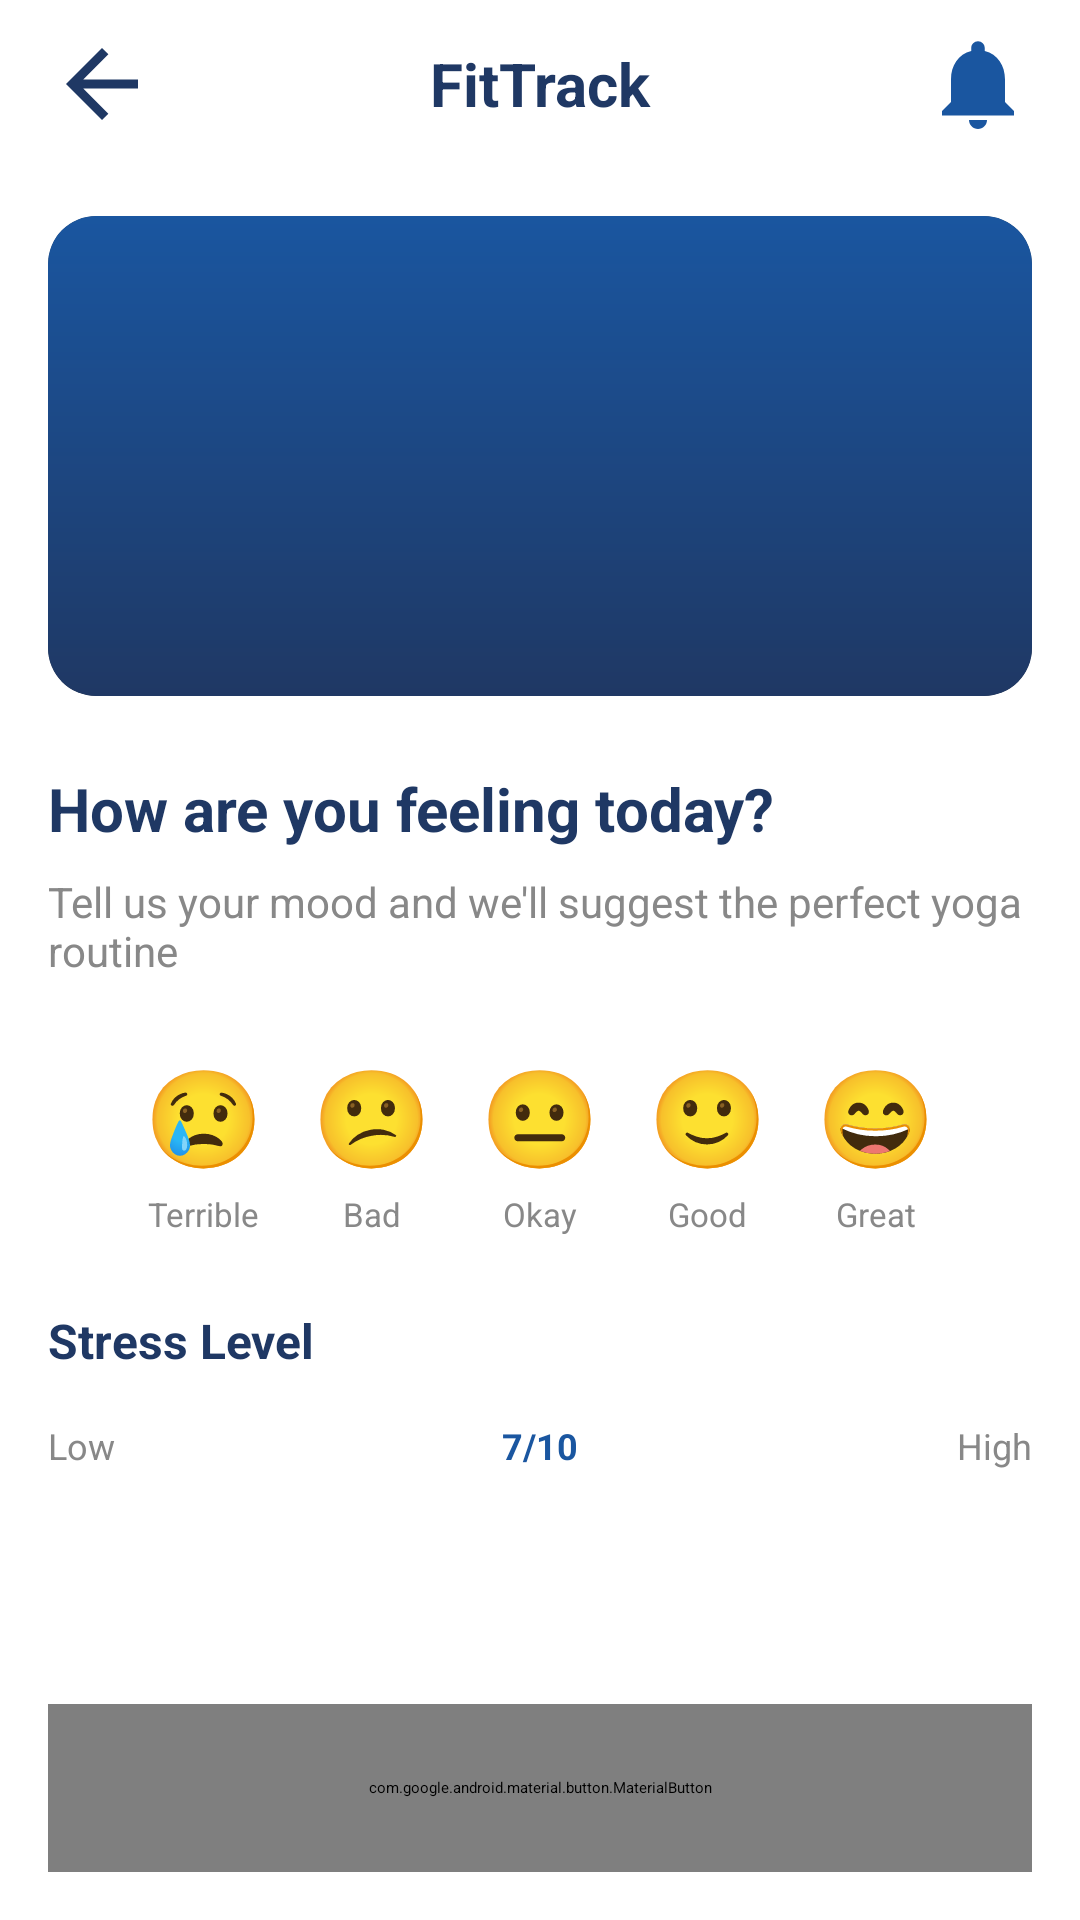

Icons on this 1080 × 1920 Android screen, each with its box as (x1, y1, x2, y2):
back arrow: (66, 48, 138, 120)
bell: (942, 41, 1014, 129)
